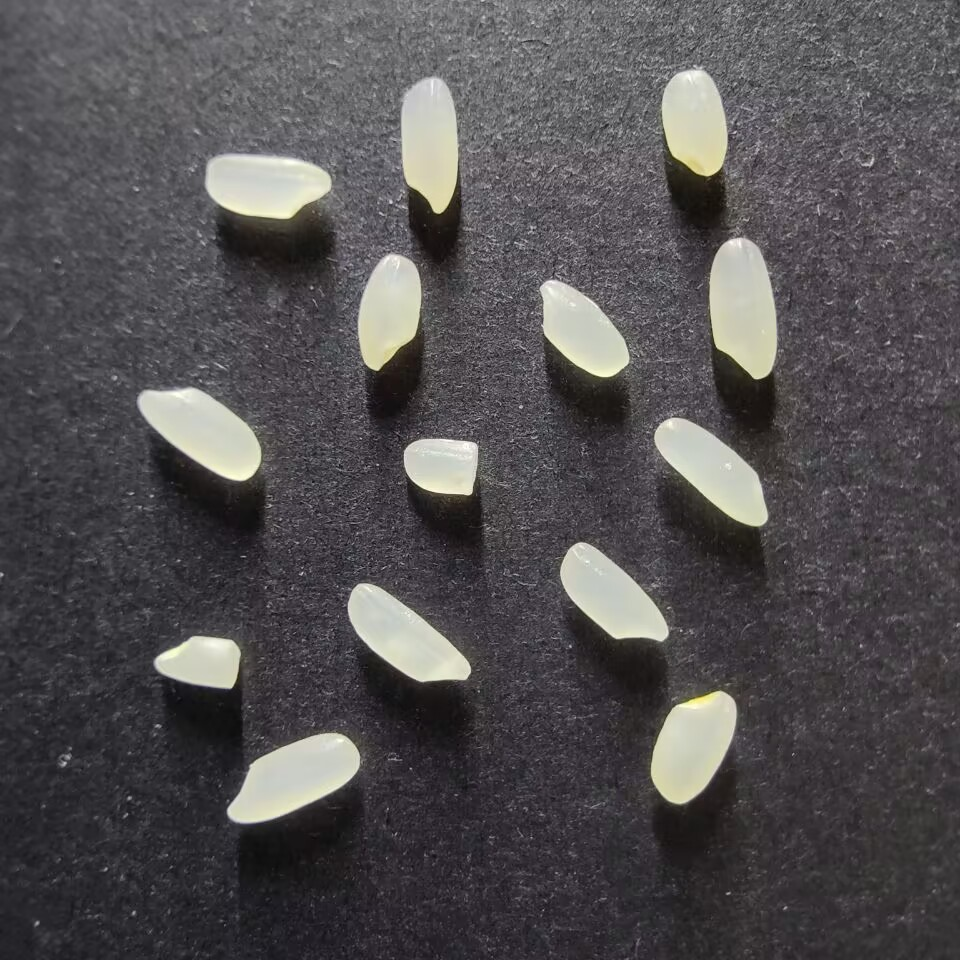broken: (152, 635, 240, 690), (402, 437, 479, 497)
rice: (652, 416, 770, 527), (346, 581, 471, 685), (225, 732, 360, 824), (136, 386, 261, 482), (559, 540, 669, 643), (648, 689, 738, 805), (707, 237, 777, 380), (539, 278, 630, 378), (398, 77, 458, 215), (204, 154, 331, 219), (356, 254, 422, 371), (660, 69, 727, 177)
